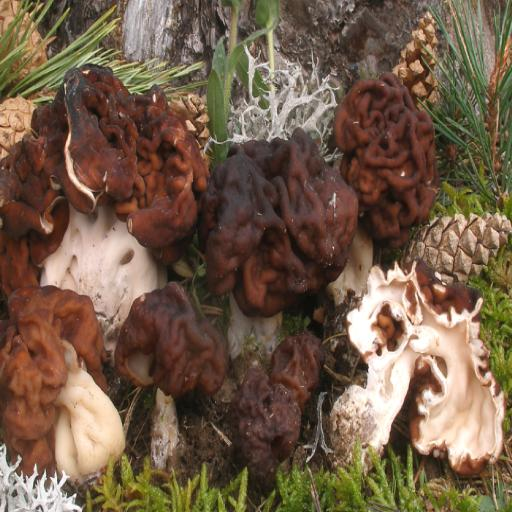False Morel: (0, 43, 512, 495)
